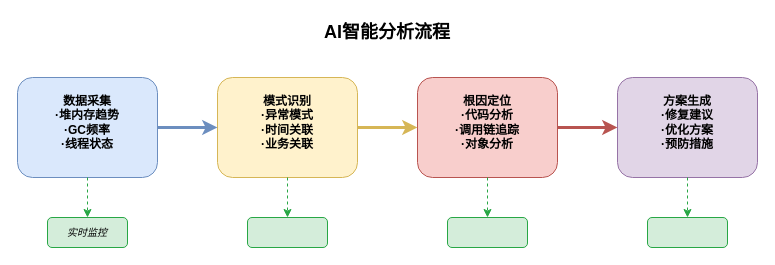
This 775x265 diagram has some shape labels left out. The shapes that lost their labels are listed below. From the top down, each one's centre as x and y in pixels, then its label:
(287,232): 智能识别
(487,232): 精准定位
(687,232): 行动指导
